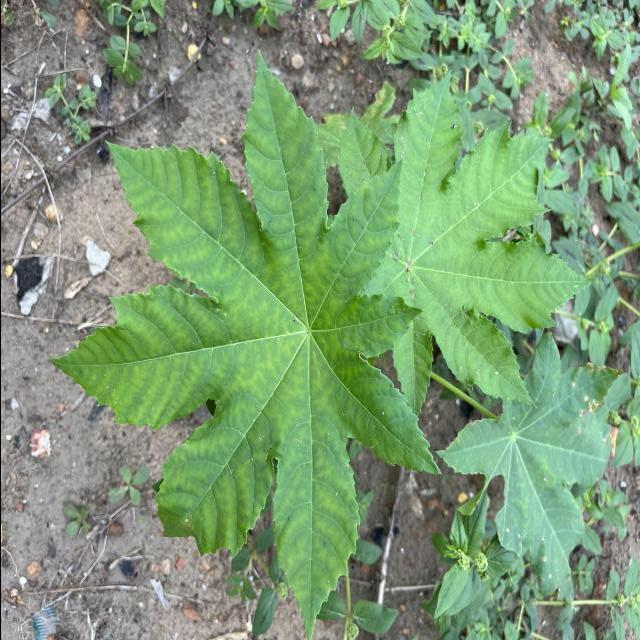Ricinus communis linn: (45, 42, 445, 640), (332, 64, 600, 427)
